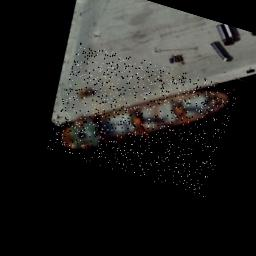boat: (54, 83, 237, 153)
